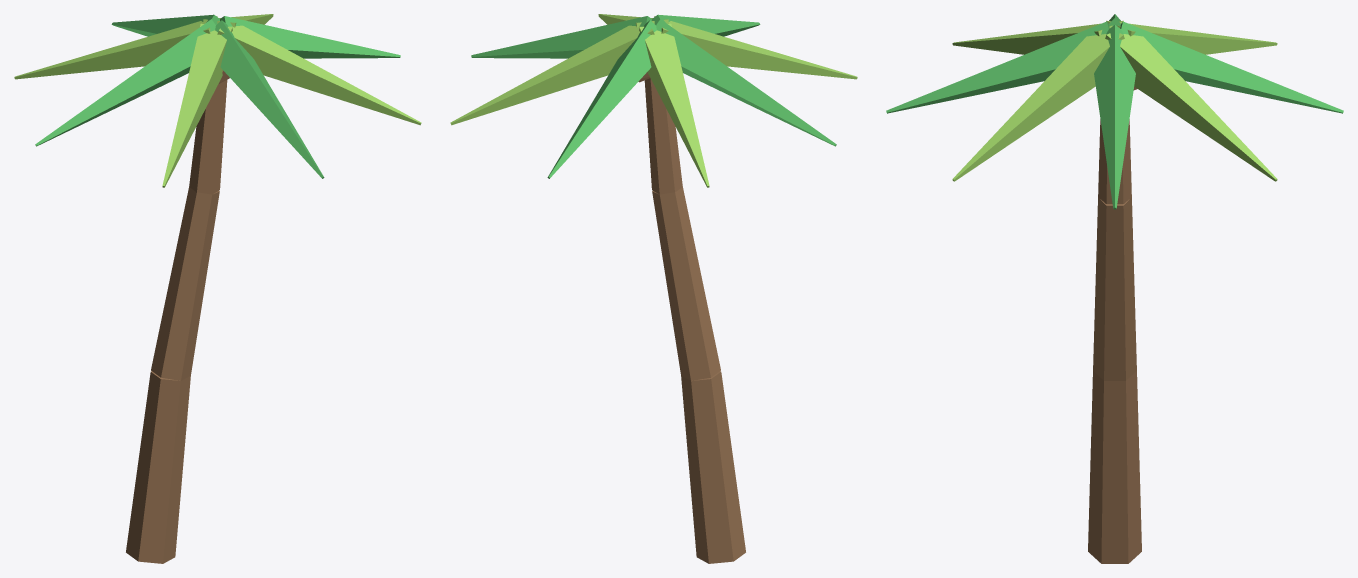
Rendered from Tree_10_Palm.fbx.
The picture shows the model from 3 angles, left to right: view 1: azimuth 30°, elevation 25°; view 2: azimuth 150°, elevation 25°; view 3: azimuth 270°, elevation 25°; orthographic projection. The views are drawn at different scales.
Parts seen in each view (by area): view 1: Tree_10_Palm; view 2: Tree_10_Palm; view 3: Tree_10_Palm.
Part boxes in pixels (left/top/right/bottom): Tree_10_Palm: left=14, top=14, right=421, bottom=563; Tree_10_Palm: left=450, top=14, right=857, bottom=563; Tree_10_Palm: left=886, top=14, right=1343, bottom=563.
Size of the model in its own units: 5.41 by 7.42 by 5.41.
